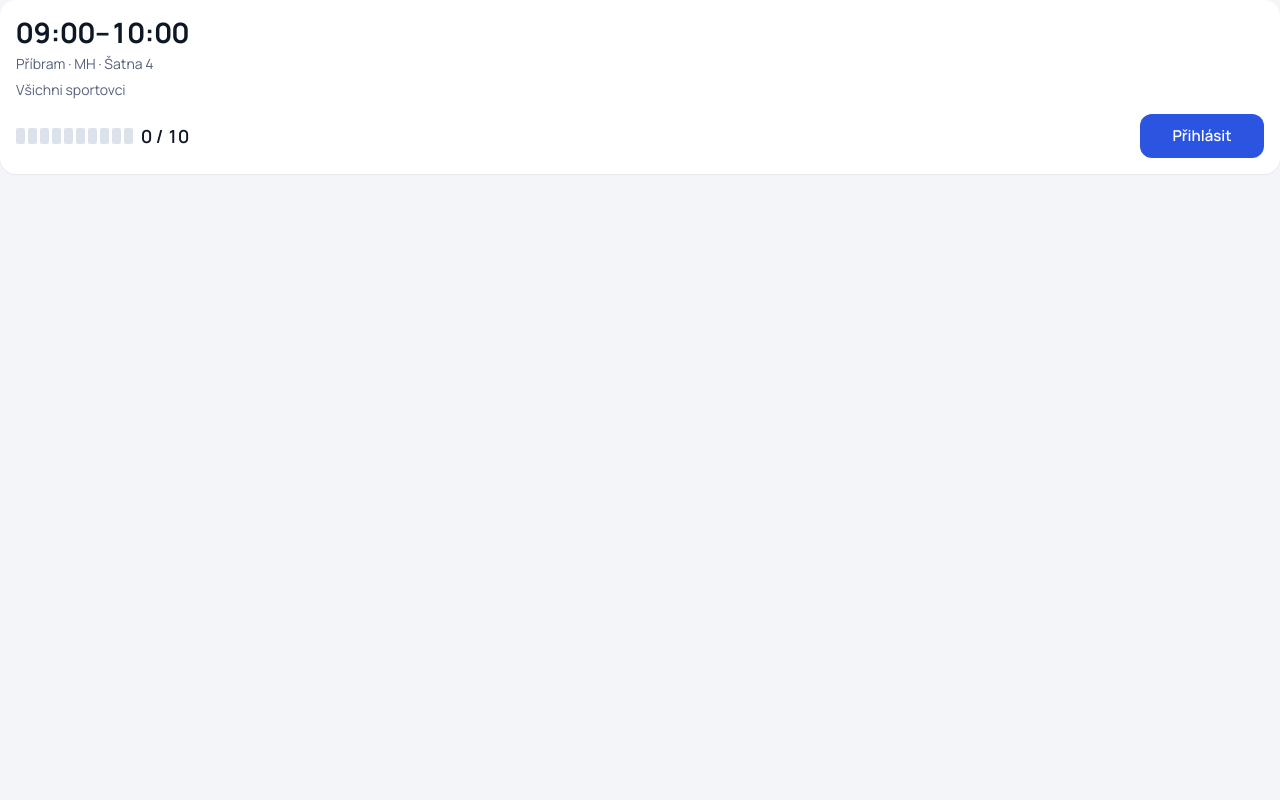
Test: the booking sheet (AC-268) › preselects an only child so booking is one tap
Click the button "Přihlásit". click: [1202, 136]
box: [1140,114,1264,158]
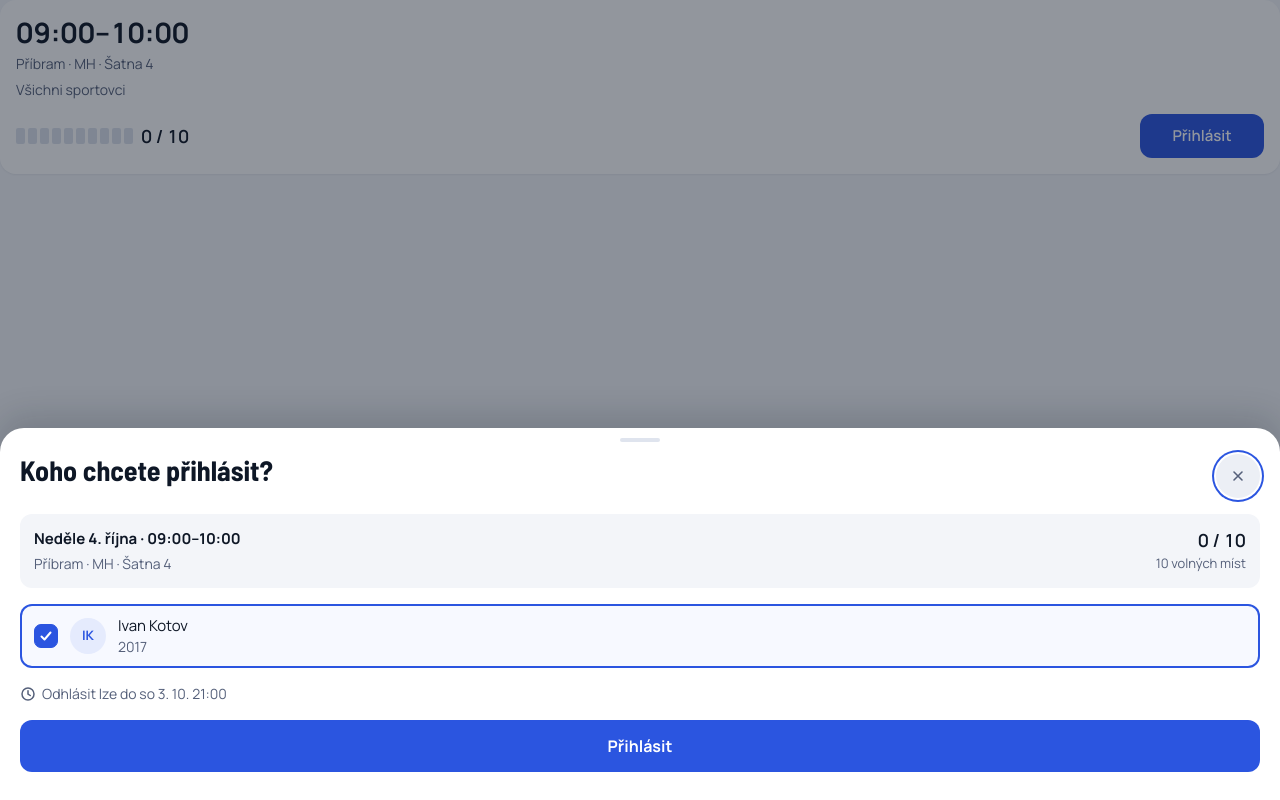
Check: the checkbox labelled "IK Ivan Kotov 2017" is checked, box [20,604,1260,668]
Check: the submit button is enabled, box [20,720,1260,772]
